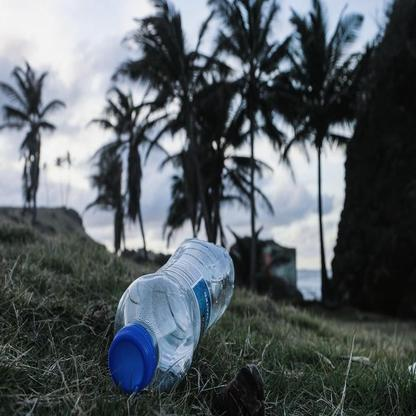plastic bottle: (111, 238, 234, 387)
